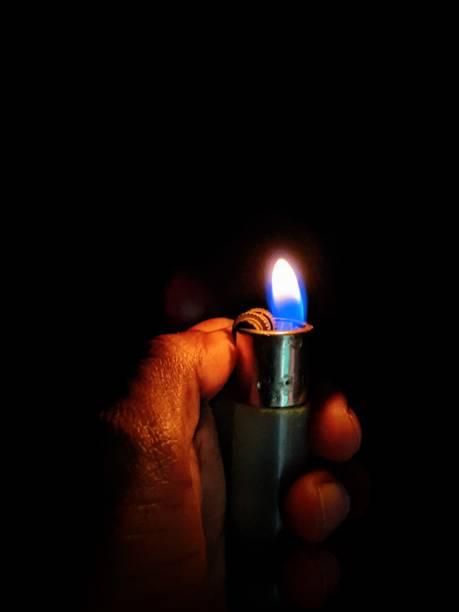Fire: (269, 230, 319, 328), (262, 329, 265, 333)
